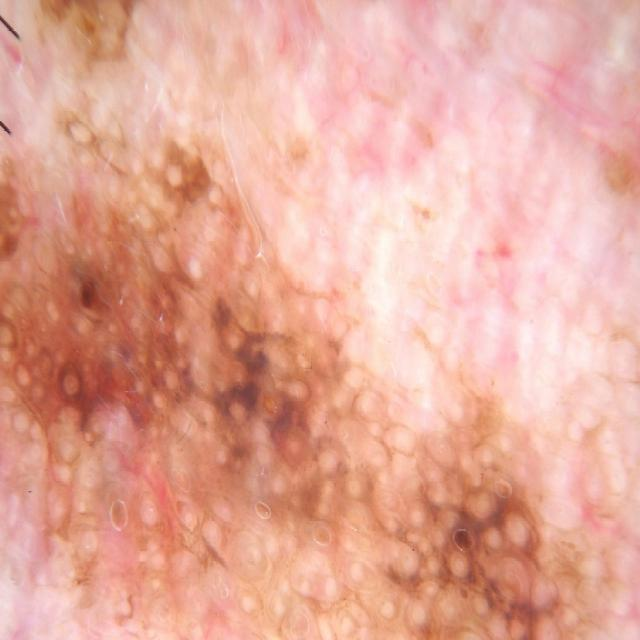Melanoma: (0, 130, 333, 550), (364, 389, 640, 640), (31, 0, 180, 73)
